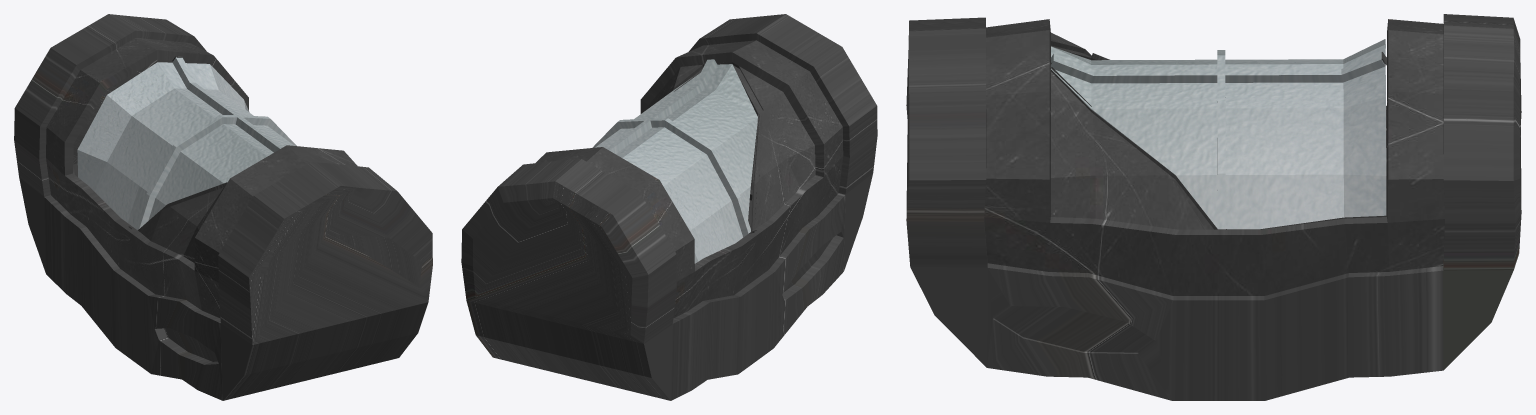
The model's file is Capsula.fbx.
3 views of the same model, side by side, from view 1: azimuth 30°, elevation 25°; view 2: azimuth 150°, elevation 25°; view 3: azimuth 270°, elevation 25° (orthographic). The views are drawn at different scales.
Parts seen in each view (by area): view 1: Cylinder, Cylinder.001; view 2: Cylinder, Cylinder.001; view 3: Cylinder, Cylinder.001.
Part boxes in pixels (bbox=[...]): Cylinder: bbox=[14, 14, 432, 400]; Cylinder.001: bbox=[77, 57, 296, 230]; Cylinder: bbox=[461, 14, 877, 400]; Cylinder.001: bbox=[592, 59, 757, 263]; Cylinder: bbox=[906, 14, 1521, 400]; Cylinder.001: bbox=[1050, 39, 1386, 229].
Size of the model in its own units: 259 by 317 by 554.
2 materials, 2 textured.
